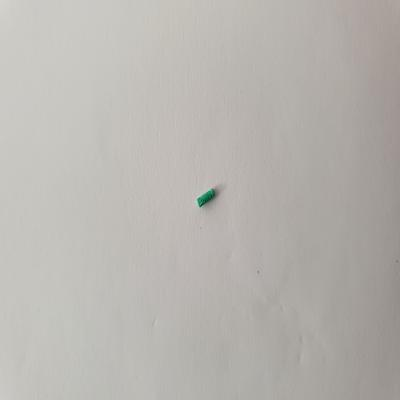plastic: (194, 186, 218, 208)
